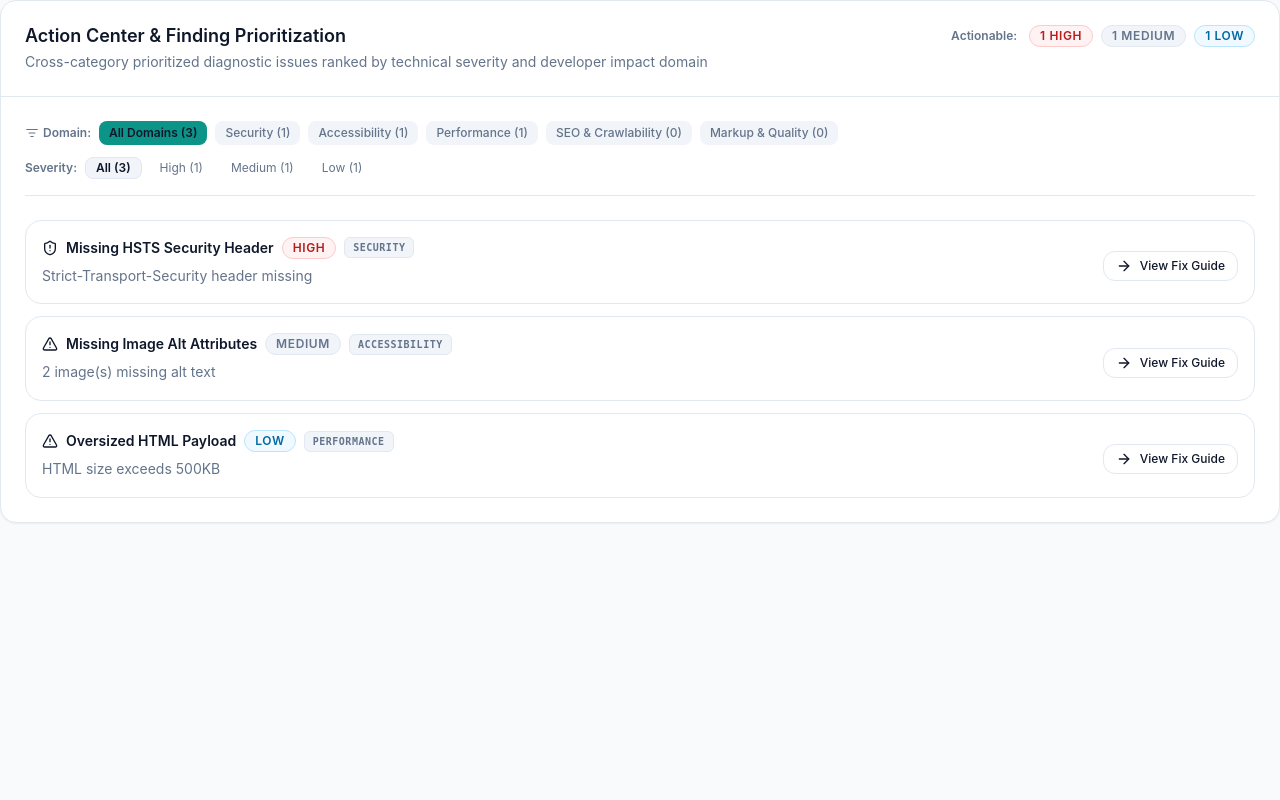
ActionCenterCard Component Suite (M8) › opens remediation drawer when View Fix Guide button is clicked
The width and height of the screenshot is (1280, 800).
Click the button "View Fix Guide" in the row of "Strict-Transport-Security header missing". click: point(1170, 266)
box: x1=1103 y1=251 x2=1238 y2=281
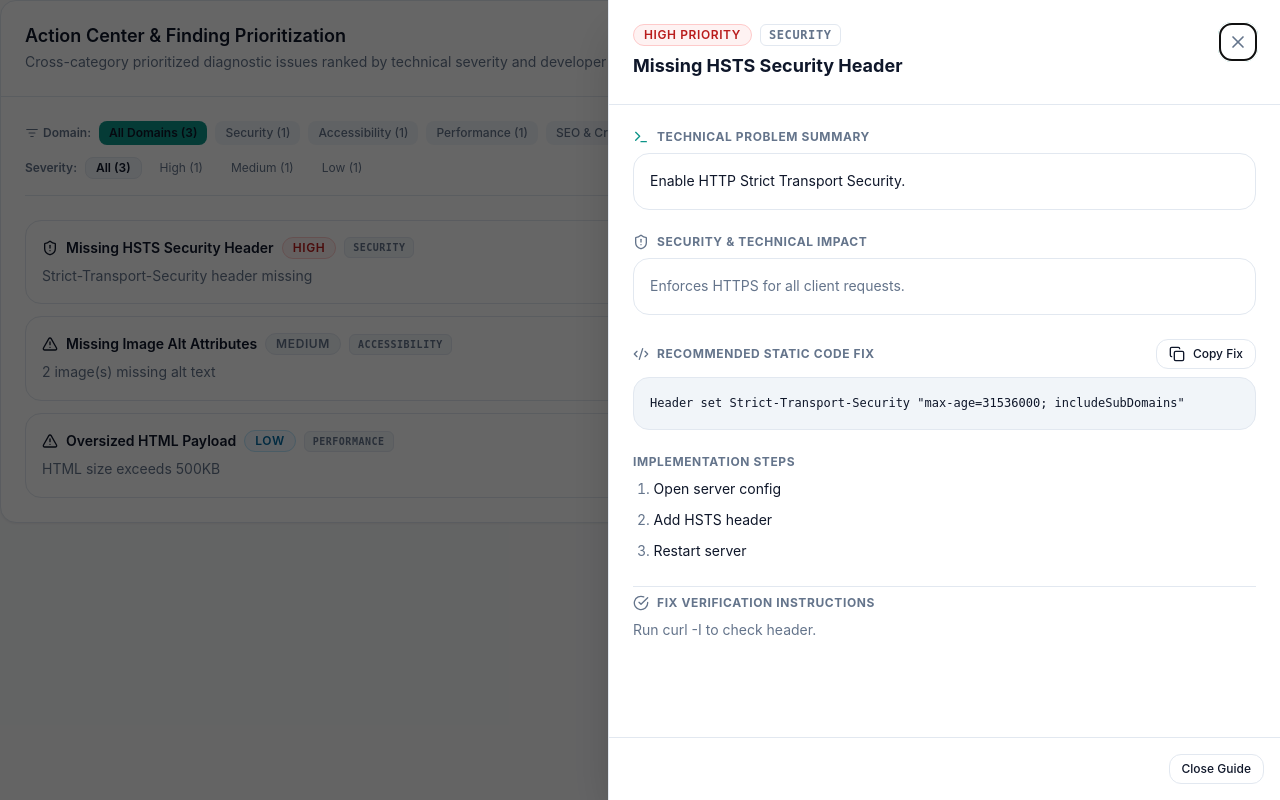
Expected: the dialog is shown
Expected: the text "Enable HTTP Strict Transport Security." is shown, x1=633 y1=153 x2=1256 y2=210
Expected: the text "Enforces HTTPS for all client requests." is shown, x1=633 y1=258 x2=1256 y2=315
